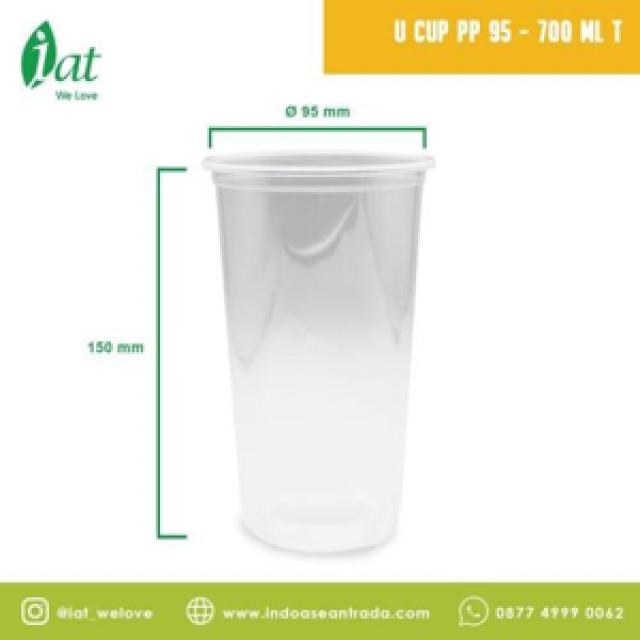plastic cup: (194, 143, 448, 559)
